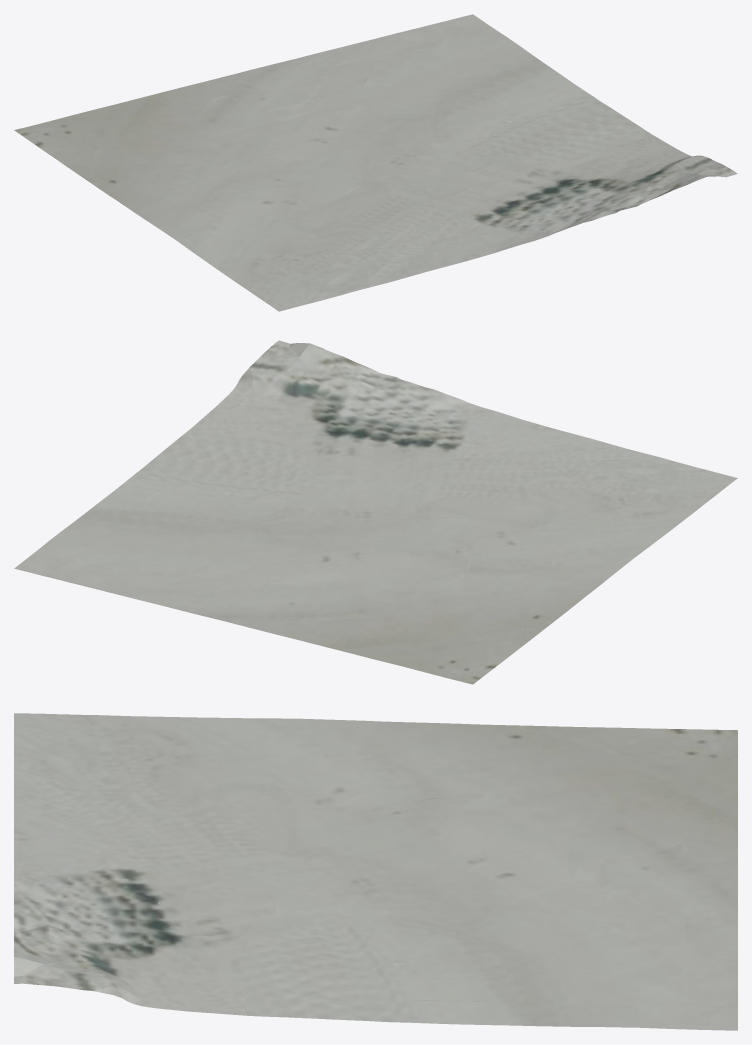
The picture shows the model from 3 angles, top to bottom: view 1: azimuth 30°, elevation 25°; view 2: azimuth 150°, elevation 25°; view 3: azimuth 270°, elevation 25°; orthographic projection. The views are drawn at different scales.
Bounding box in the file's own units: 104 × 9.33 × 104.
2 materials, 2 textured.
